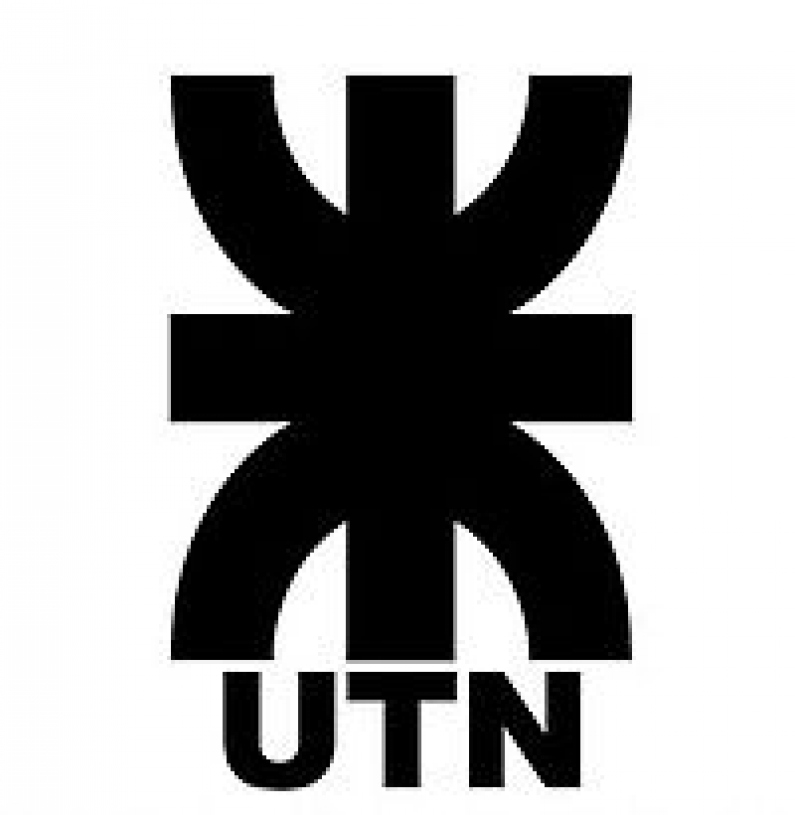utn: (171, 76, 638, 665)
